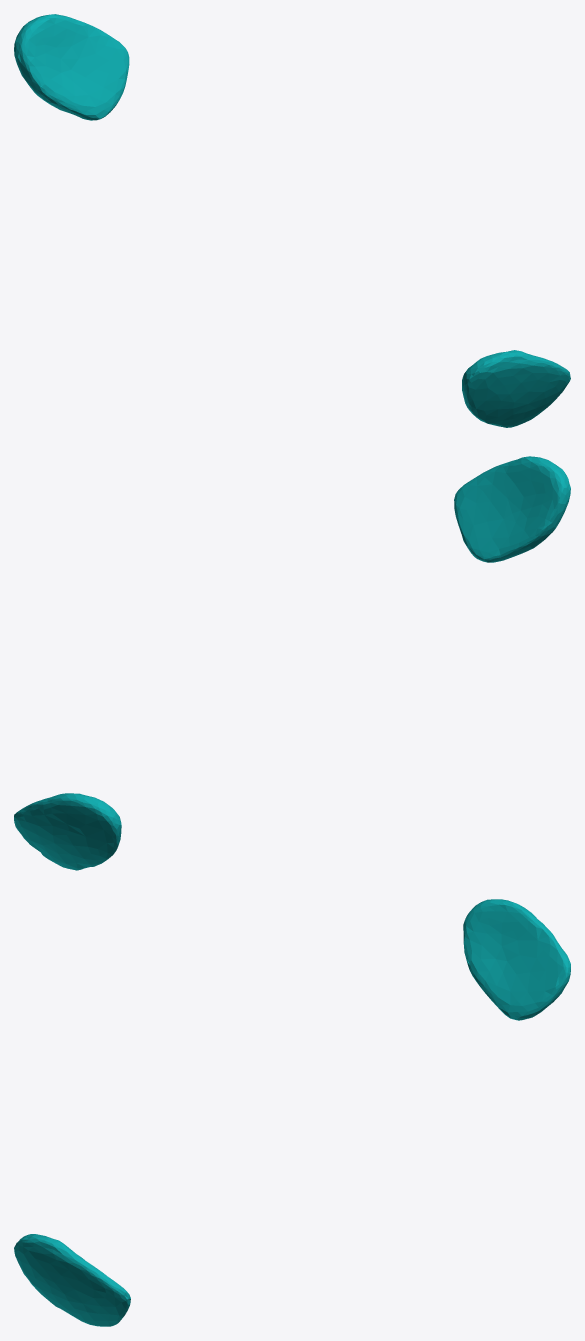
The picture shows the model from 3 angles, top to bottom: view 1: azimuth 30°, elevation 25°; view 2: azimuth 150°, elevation 25°; view 3: azimuth 330°, elevation 25°; orthographic projection.
Parts seen in each view (by area): view 1: 251.obj; view 2: 251.obj; view 3: 251.obj.
Part boxes in pixels (x1=…): 251.obj: x1=14, y1=14, x2=570, y2=427; 251.obj: x1=14, y1=456, x2=570, y2=870; 251.obj: x1=14, y1=899, x2=570, y2=1326.
Bounding box in the file's own units: 1345 × 1131 × 9963.
